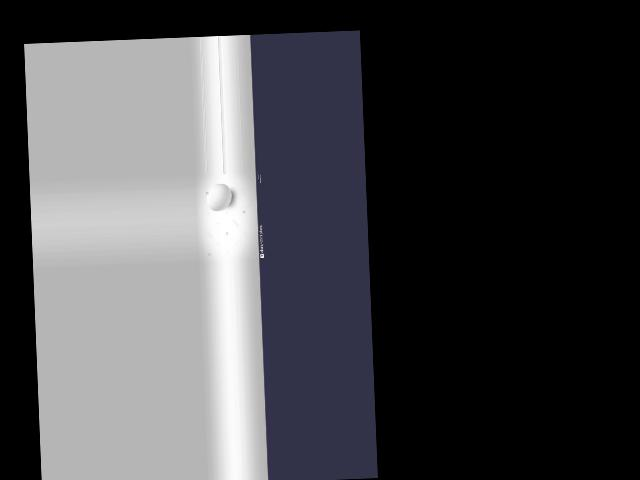egg: (206, 182, 232, 210)
